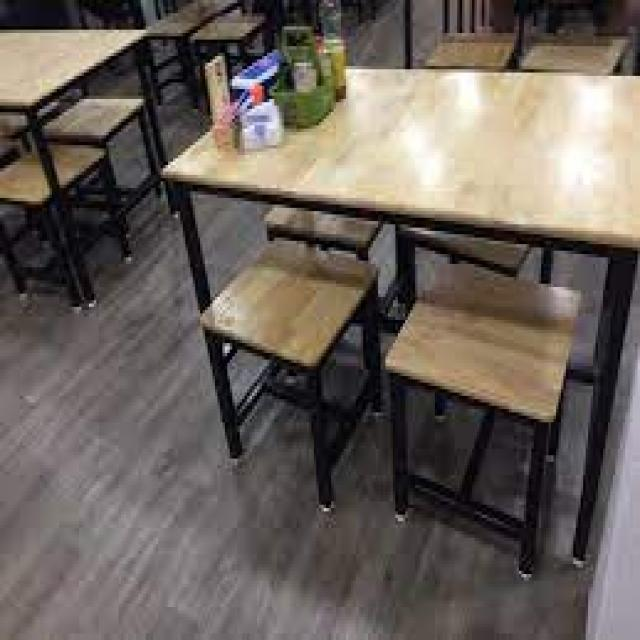table: (161, 48, 637, 269)
